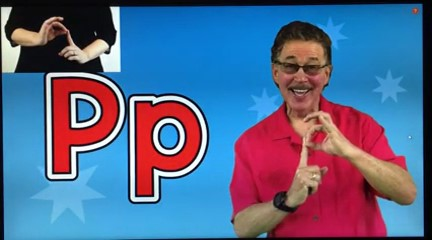P: (280, 101, 345, 217)
